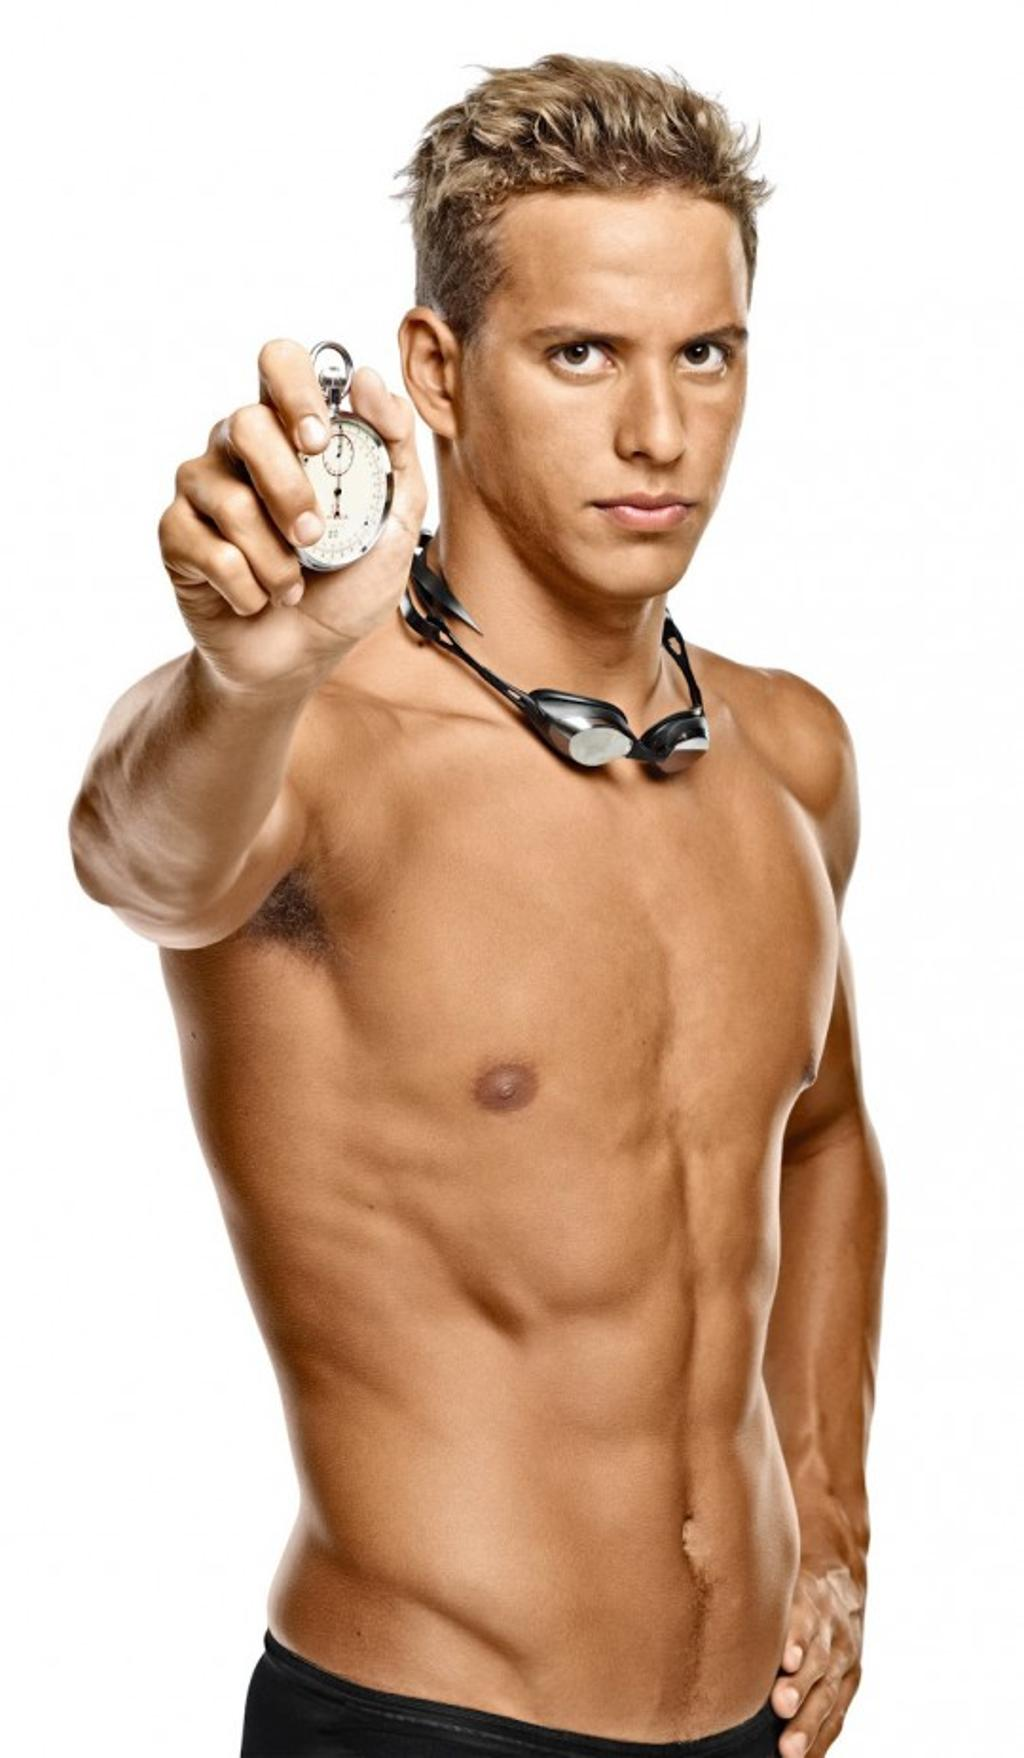face: (485, 199, 750, 622)
